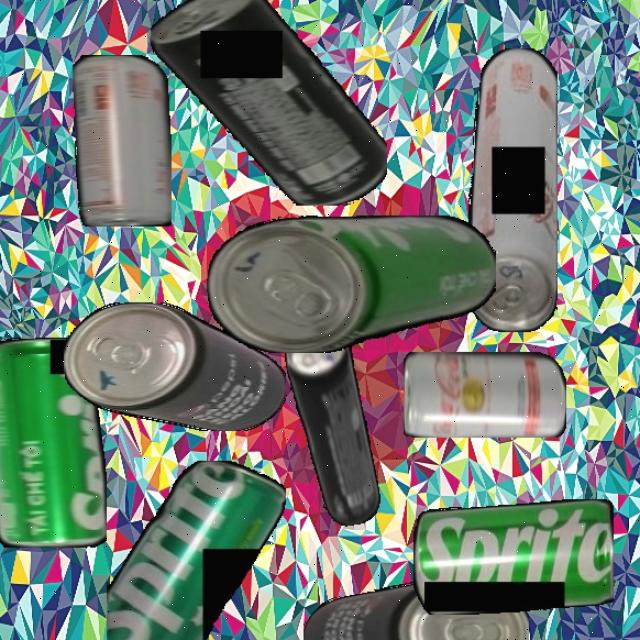debris: (150, 0, 387, 206), (207, 214, 496, 353), (105, 461, 286, 640), (64, 301, 286, 431), (466, 47, 558, 332), (412, 498, 614, 615), (0, 338, 107, 548), (280, 317, 384, 531), (72, 54, 172, 226), (402, 350, 566, 438), (302, 578, 529, 640)
